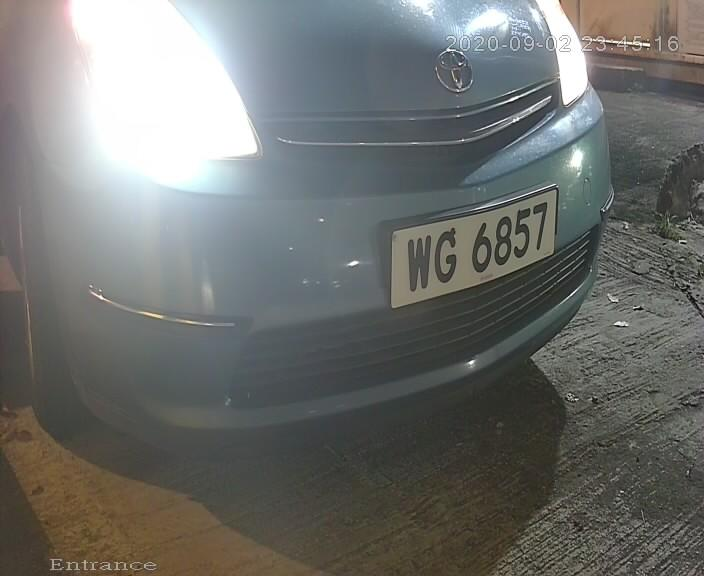License Plate: (381, 181, 563, 319)
